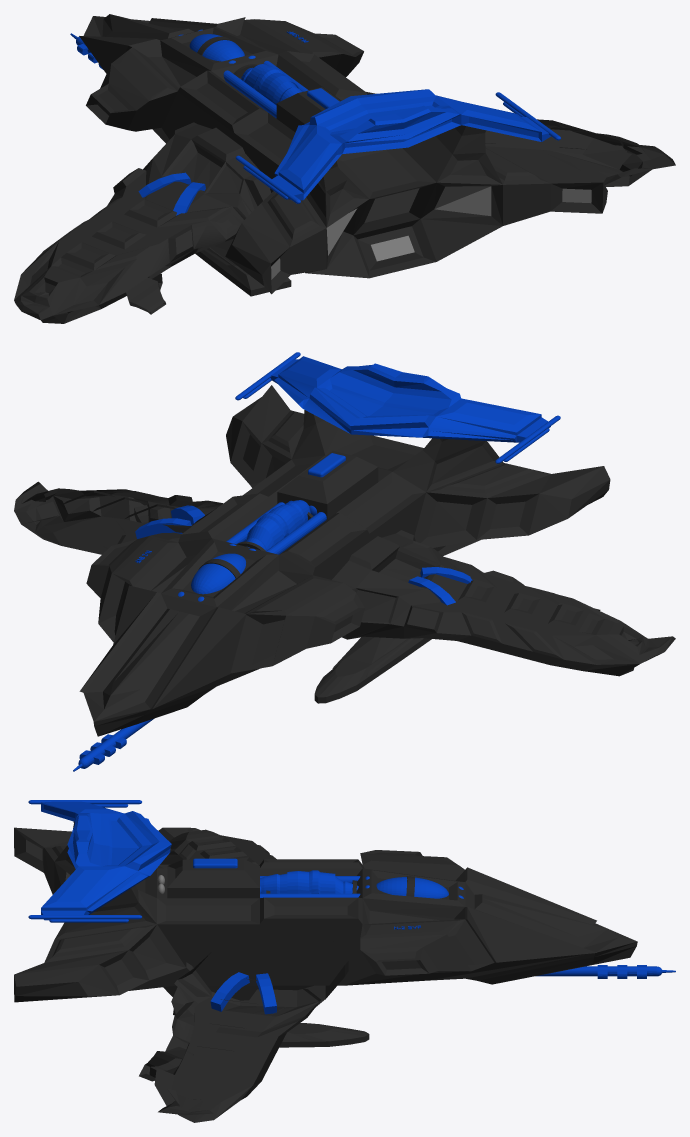
The model's file is Player.fbx.
3 views of the same model, one above another, from view 1: azimuth 30°, elevation 25°; view 2: azimuth 150°, elevation 25°; view 3: azimuth 270°, elevation 25° (orthographic). The views are drawn at different scales.
Parts seen in each view (by area): view 1: ChamferCyl001; view 2: ChamferCyl001; view 3: ChamferCyl001.
Part boxes in pixels (x1,y1,x2,y2): ChamferCyl001: [14, 14, 675, 323]; ChamferCyl001: [14, 352, 675, 771]; ChamferCyl001: [14, 800, 675, 1122].
Size of the model in its own units: 1105 by 325 by 1087.
